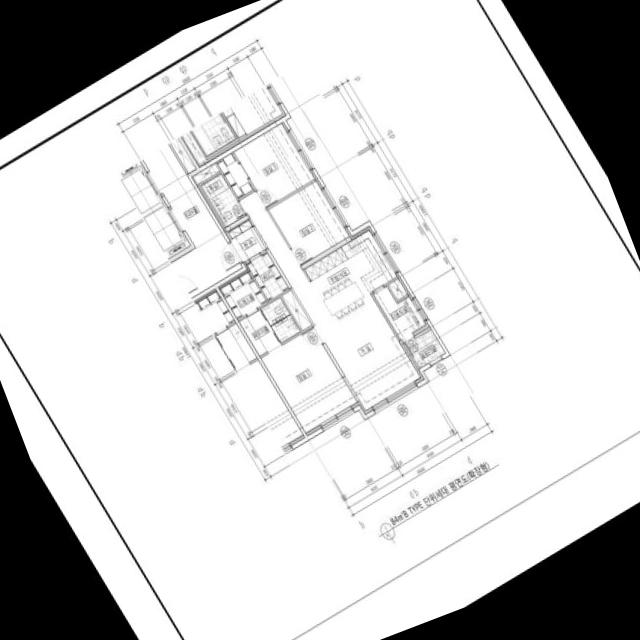background: (0, 0, 640, 640)
space_bedroom: (261, 327, 358, 435), (233, 122, 316, 207), (268, 179, 351, 264)
space_dressroom: (218, 269, 267, 319), (216, 152, 254, 198)
space_elevator: (142, 202, 190, 258), (117, 161, 164, 215)
space_elevator_hall: (142, 144, 242, 298)
space_front: (225, 219, 266, 262)
space_kitchen: (304, 226, 398, 322)
space_living_room: (239, 191, 424, 414)
space_multipurpose_space: (372, 285, 429, 342)
space_other: (246, 251, 288, 300), (281, 290, 312, 330), (170, 138, 196, 173), (192, 163, 220, 185), (388, 277, 409, 300)
space_outdoor_room: (405, 328, 445, 368)
space_toilet: (239, 296, 300, 356), (200, 173, 246, 227)
